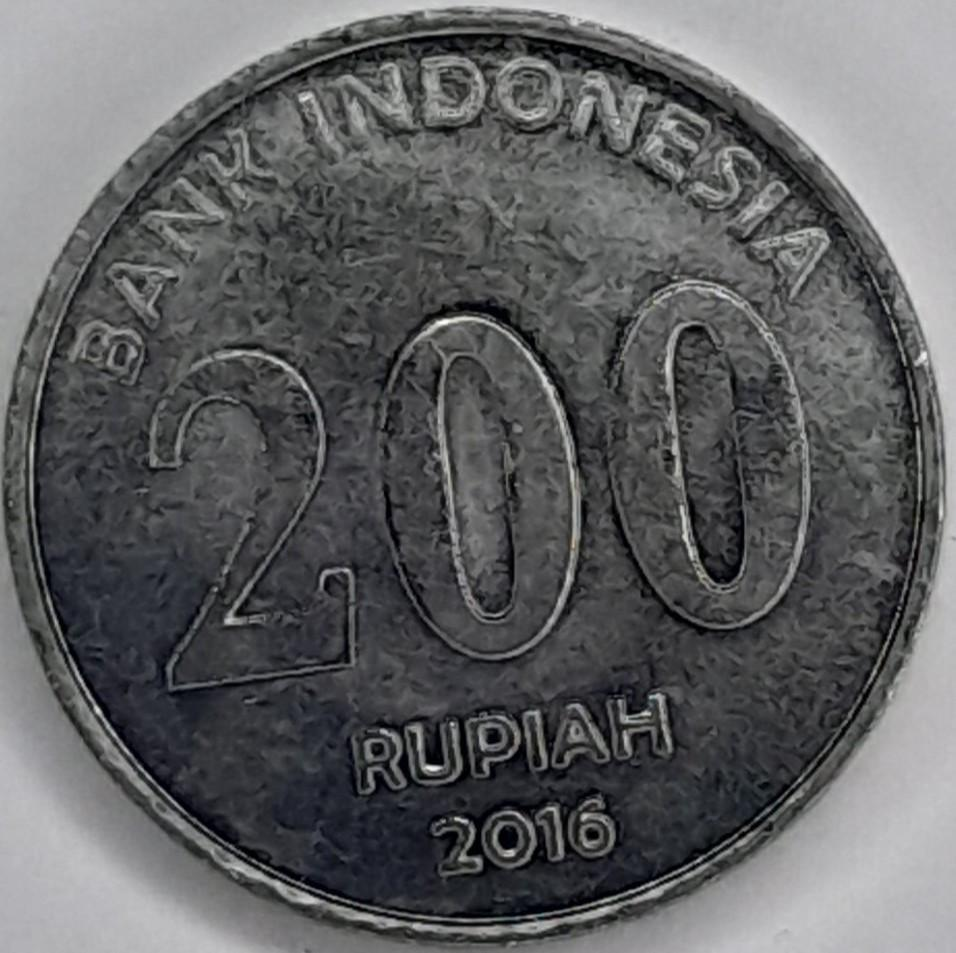coin_200_e2016: (0, 17, 956, 953)
